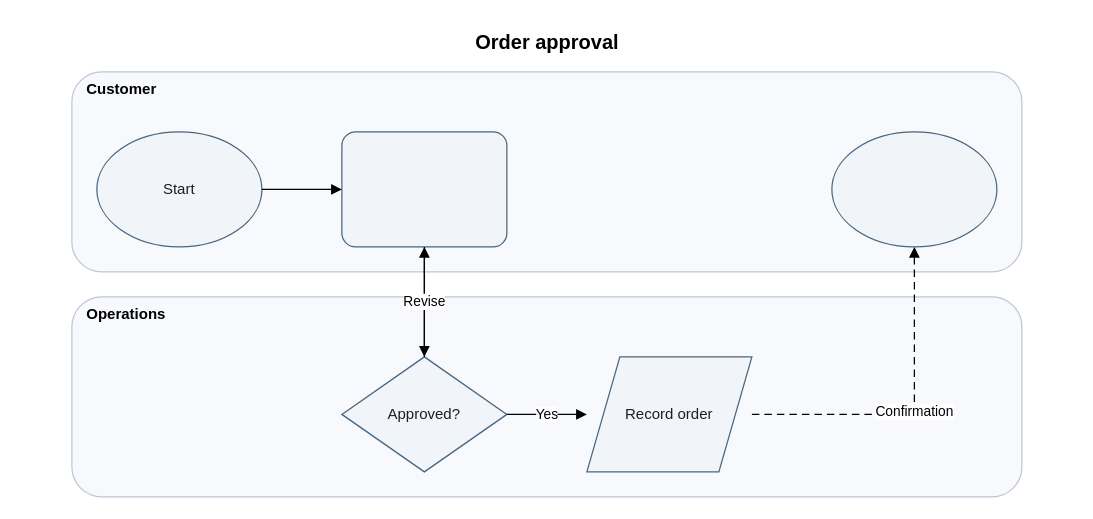
This 1093x519 diagram has some shape labels left out. Here are the shapes that lost their labels. From the top down, the centre of each, then its label:
the point at 424,189: Submit order
the point at 914,189: Done
